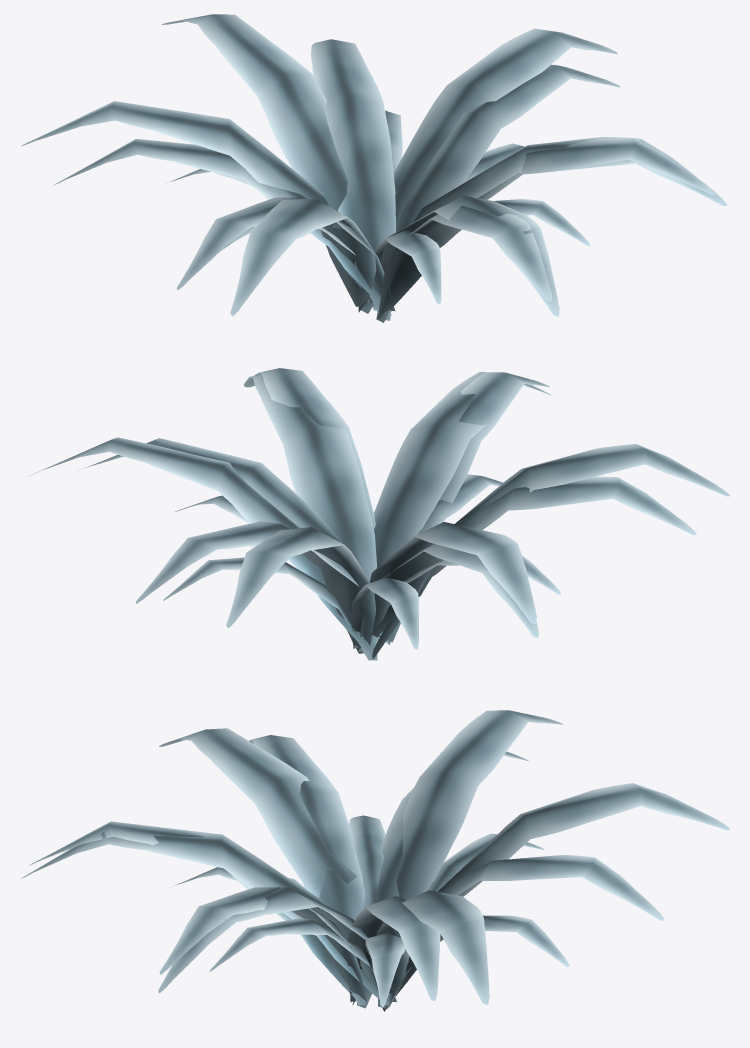
File: Plant.fbx
3 views of the same model, one above another, from view 1: azimuth 30°, elevation 25°; view 2: azimuth 150°, elevation 25°; view 3: azimuth 270°, elevation 25° (orthographic). The views are drawn at different scales.
Visible parts, largest first — view 1: PlantPlane.002; view 2: PlantPlane.002; view 3: PlantPlane.002.
Boxes of the visible parts, x1,y1,x2,y2 form: PlantPlane.002: (21, 14, 727, 322); PlantPlane.002: (28, 368, 730, 660); PlantPlane.002: (21, 710, 729, 1011).
Bounding box in the file's own units: 96.11 × 33.79 × 104.
18 materials, 18 textured.
